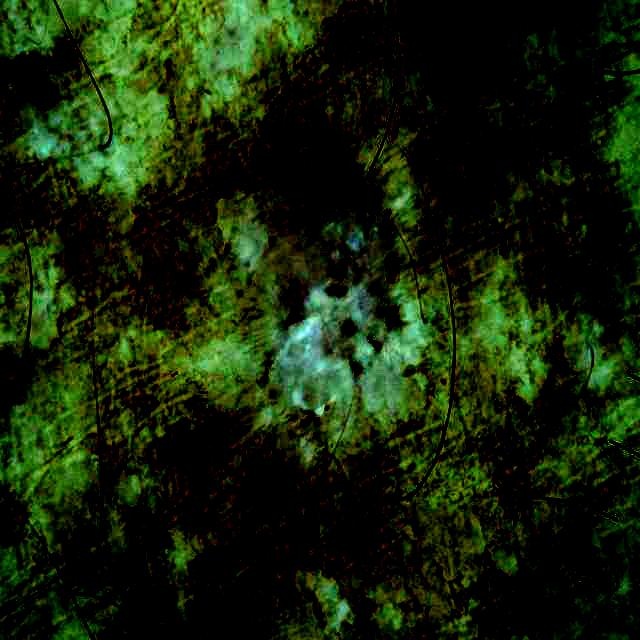BCC: (205, 145, 454, 462)
